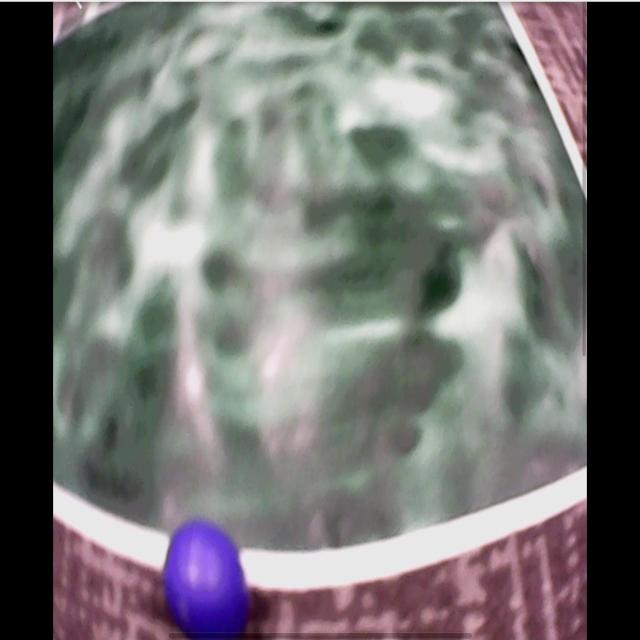ball: (167, 524, 244, 637)
